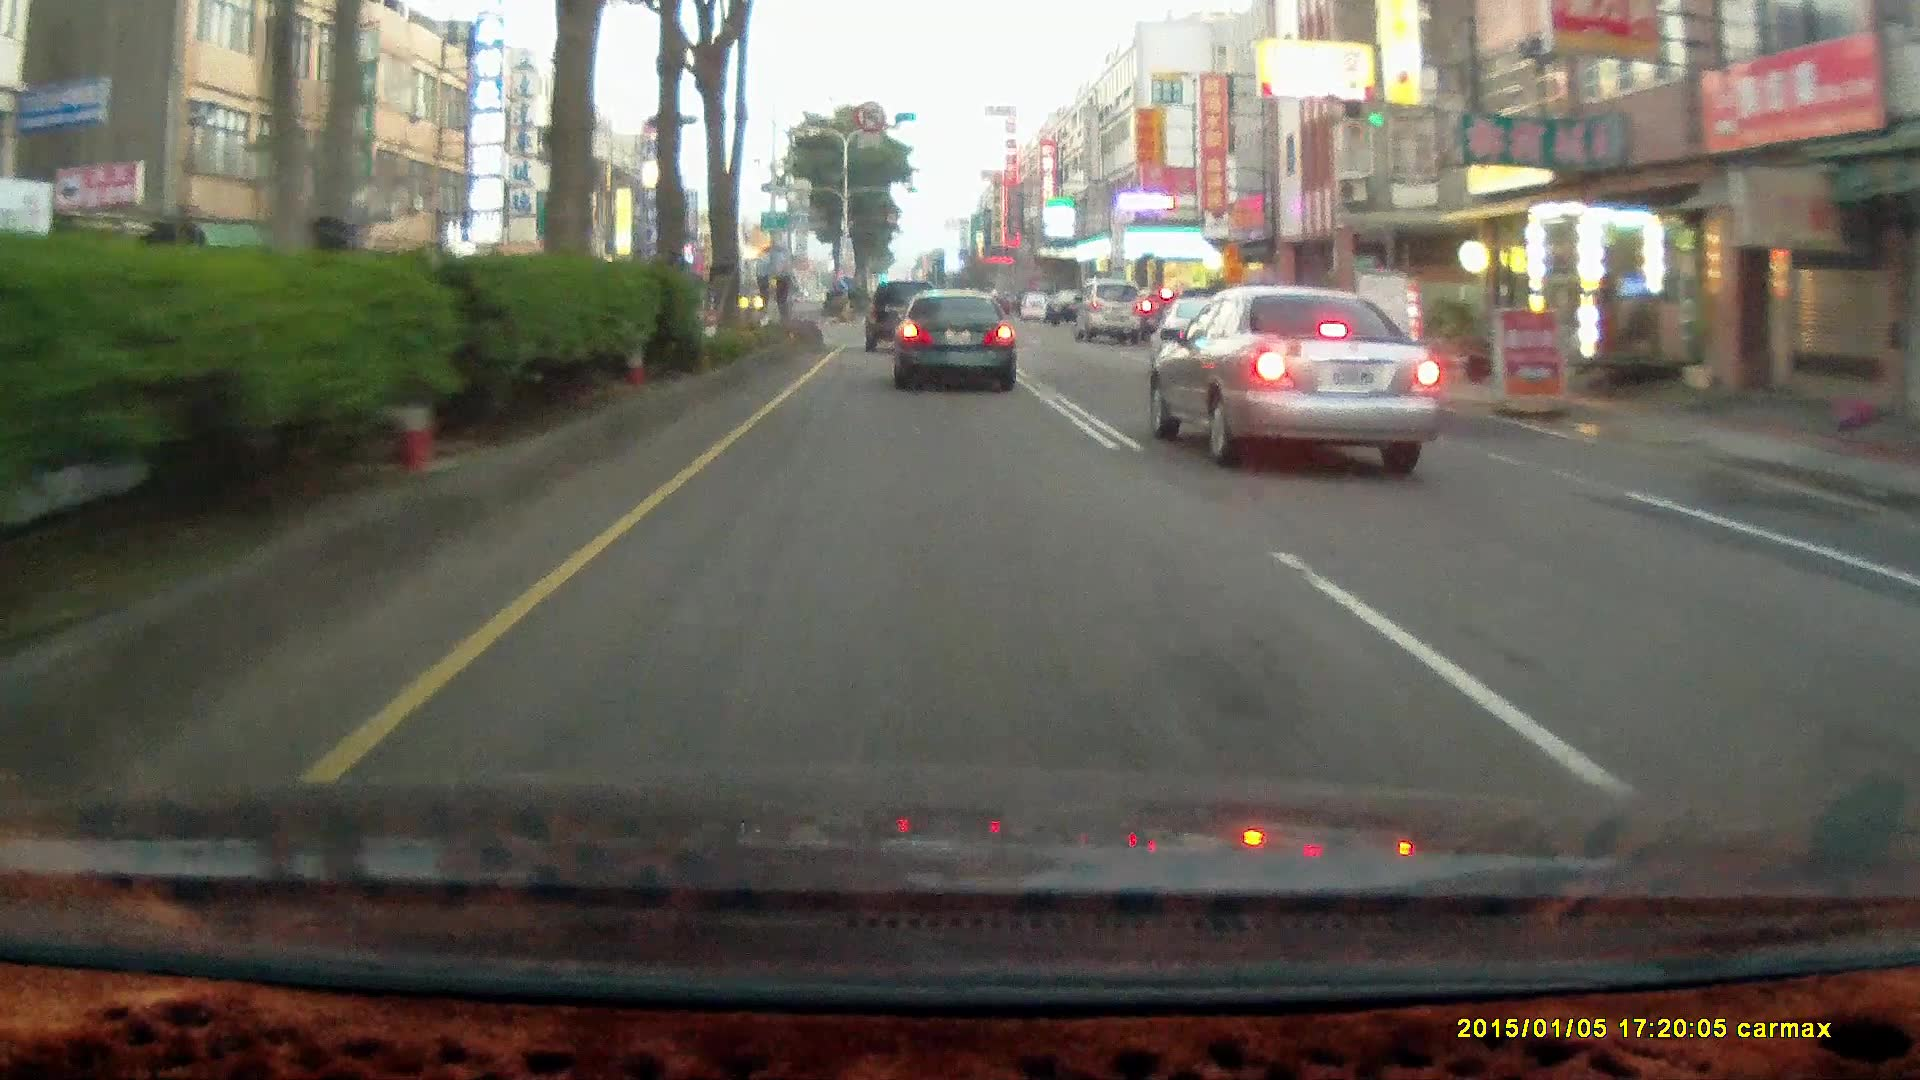vehicle: (1150, 286, 1443, 464), (891, 287, 1021, 396), (891, 287, 1013, 390), (864, 278, 944, 355), (862, 282, 940, 355), (1072, 276, 1145, 342), (1073, 280, 1147, 344), (1046, 286, 1097, 324), (1021, 290, 1048, 318)
